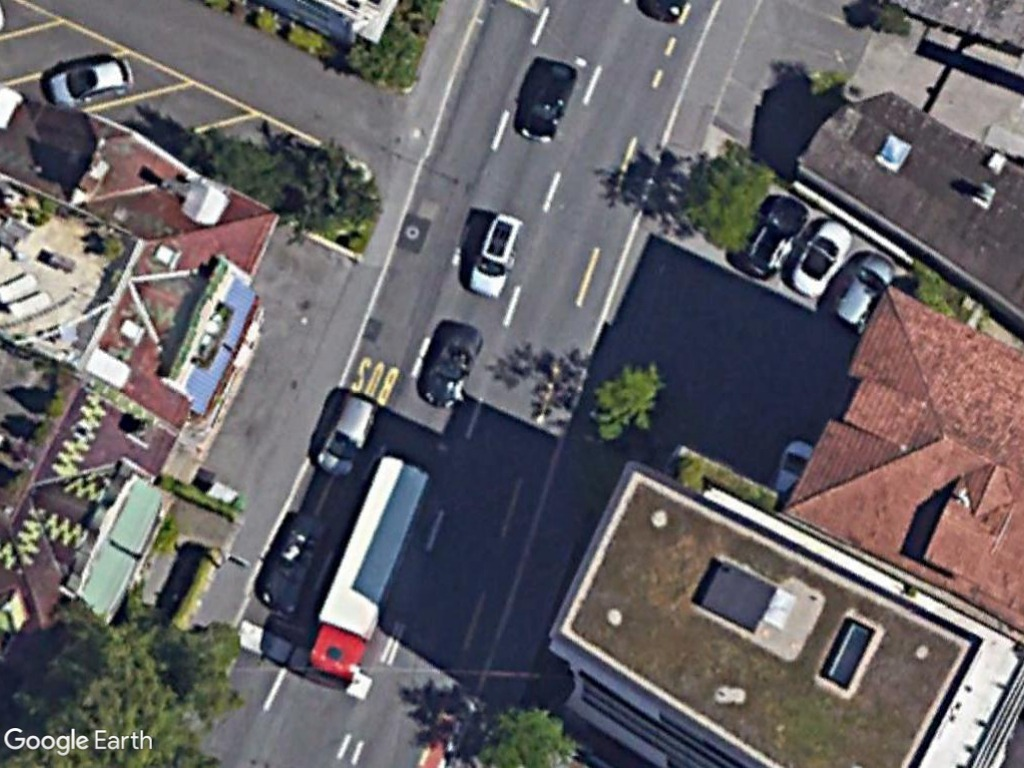car: (465, 211, 527, 302), (784, 217, 854, 297), (312, 396, 378, 480), (830, 251, 897, 329), (45, 57, 137, 109)
truck: (302, 451, 436, 681)
